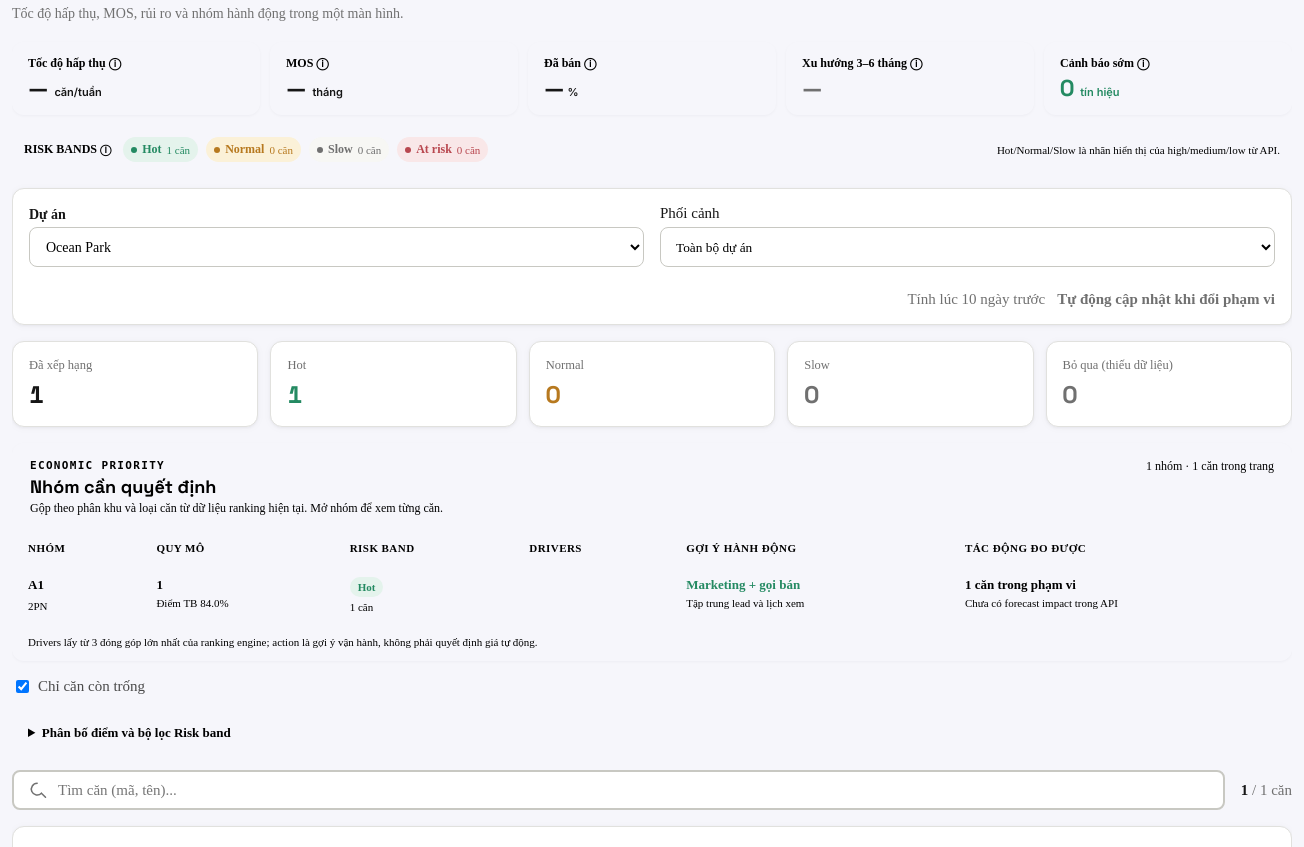
Test: HotUnitsTab › filters the ranking rows by unit search
In the search field with placeholder "Tìm căn (mã, tên)...": {"x": 618, "y": 790} [12, 770, 1225, 810], type "Z-999"
(page scrolled)
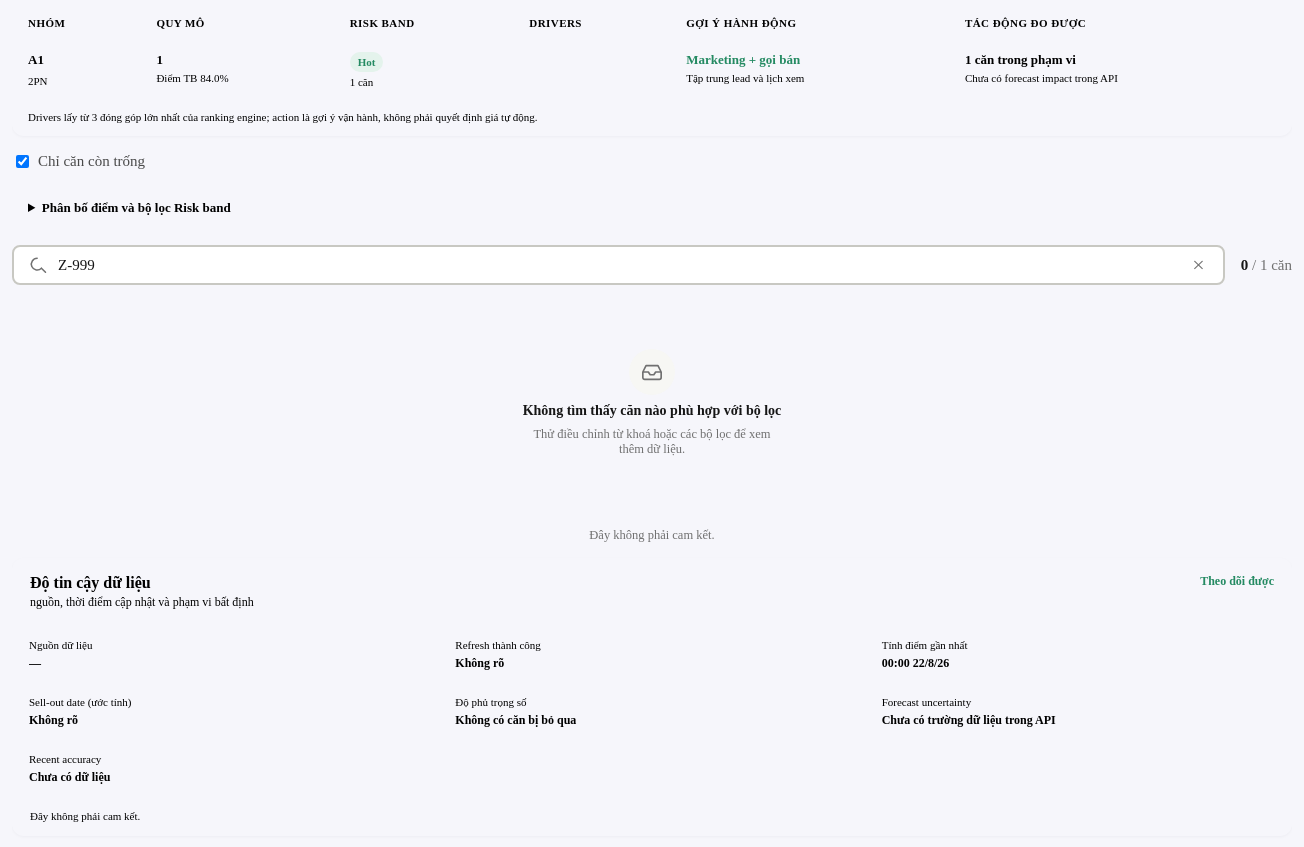
Check: the text "Không tìm thấy căn nào phù hợp với bộ lọc" is shown, box [523, 403, 781, 419]
